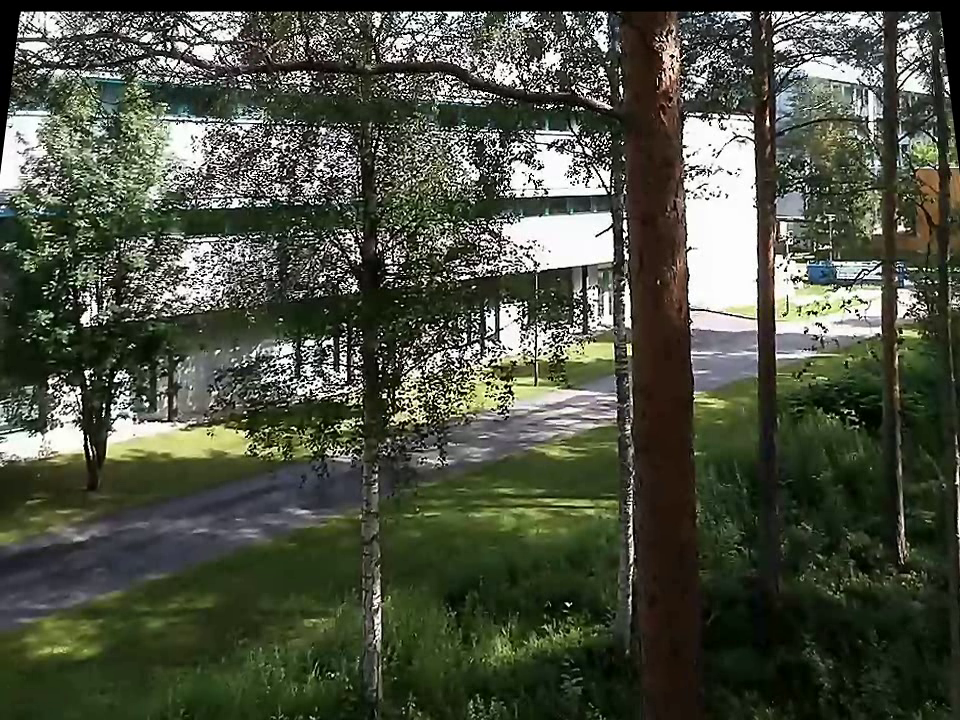branch: (289, 51, 619, 140), (777, 113, 861, 142)
trunk: (610, 18, 716, 712), (742, 18, 797, 612), (872, 17, 918, 569), (600, 205, 651, 605), (922, 20, 959, 459), (349, 456, 396, 709), (75, 392, 125, 500)
